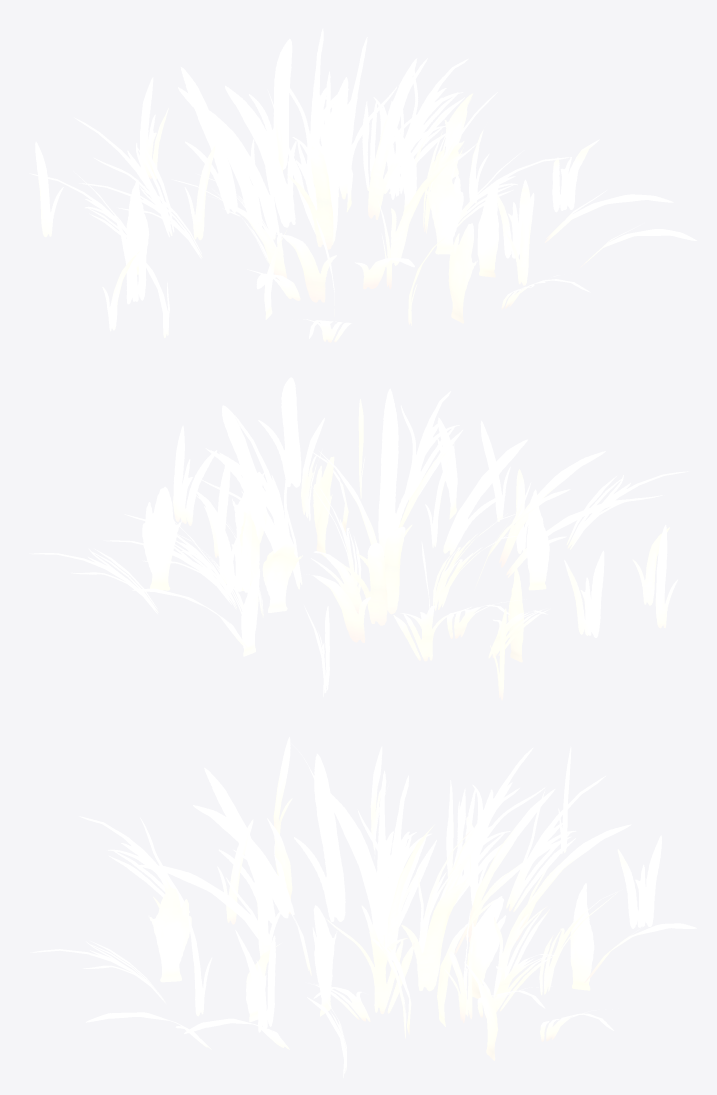
3 views of the same model, one above another, from view 1: azimuth 30°, elevation 25°; view 2: azimuth 150°, elevation 25°; view 3: azimuth 270°, elevation 25° (orthographic). The views are drawn at different scales.
Parts seen in each view (by area): view 1: SM_Sedge_03_LOD0; view 2: SM_Sedge_03_LOD0; view 3: SM_Sedge_03_LOD0.
Boxes of the visible parts, bbox=[...] form: SM_Sedge_03_LOD0: bbox=[29, 28, 696, 342]; SM_Sedge_03_LOD0: bbox=[29, 377, 688, 700]; SM_Sedge_03_LOD0: bbox=[30, 737, 696, 1077].
Bounding box in the file's own units: 0.8142 × 0.2419 × 0.8657.
Materials: 1 (1 with a texture image).
